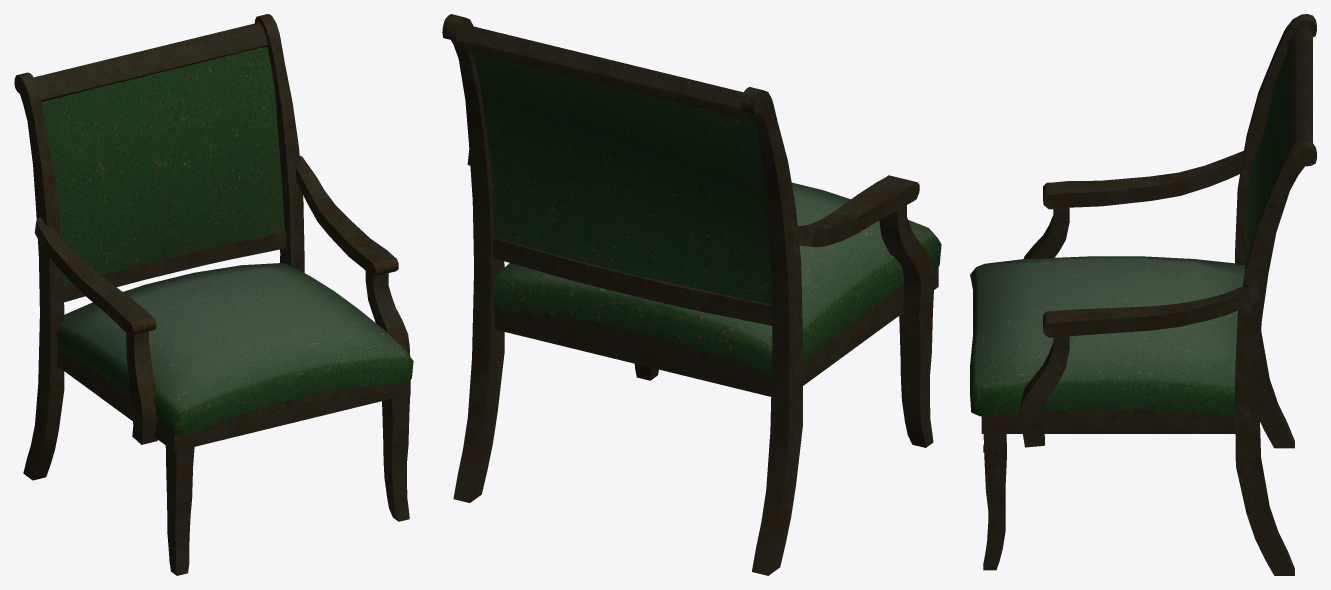
File: asset1.gltf
3 renders of one model, left to right at view 1: azimuth 30°, elevation 25°; view 2: azimuth 150°, elevation 25°; view 3: azimuth 270°, elevation 25°, orthographic. The views are drawn at different scales.
Parts seen in each view (by area): view 1: SM_Sandalye_0; view 2: SM_Sandalye_0; view 3: SM_Sandalye_0.
Boxes of the visible parts, left/top/right/bottom form: SM_Sandalye_0: left=14, top=14, right=413, bottom=575; SM_Sandalye_0: left=442, top=14, right=941, bottom=575; SM_Sandalye_0: left=970, top=14, right=1316, bottom=575.
Size of the model in its own units: 1.71 by 2.39 by 1.76.
1 material, 1 textured.
